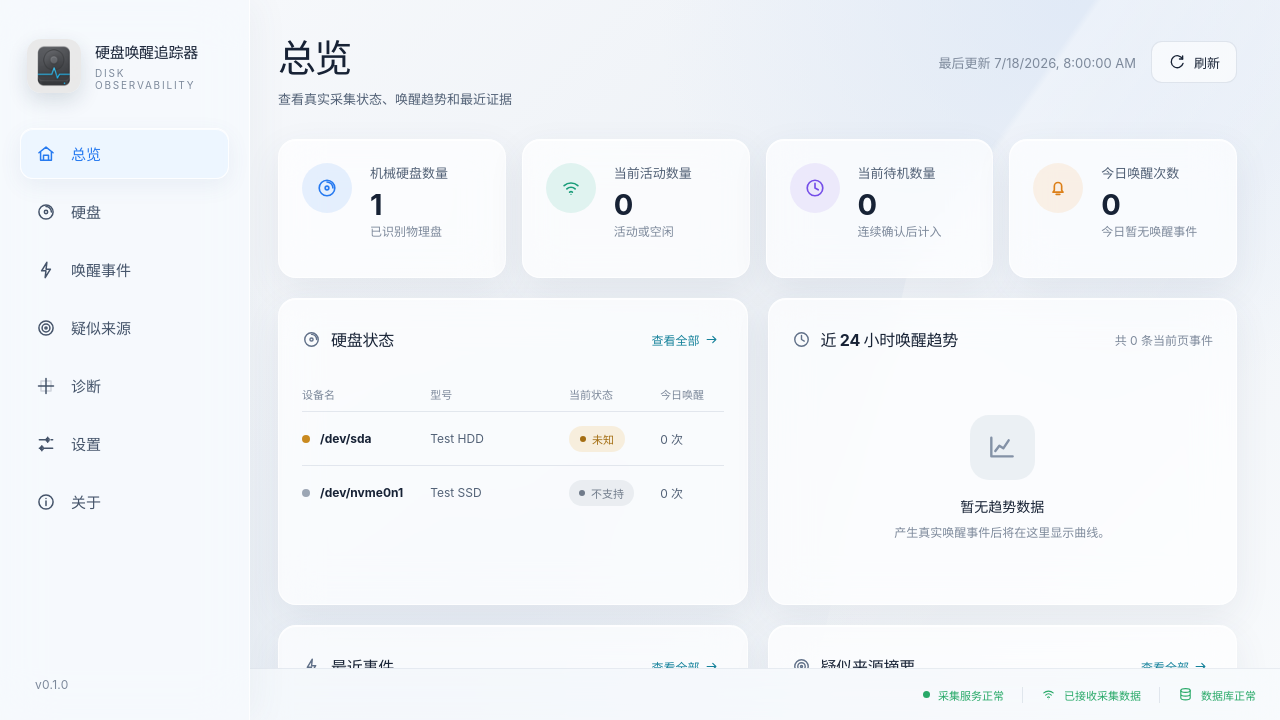
Test case: App › 设置保存成功后显示 Toast
Click the button "设置". click: (124, 444)
box: [20,418,229,469]
(page scrolled)
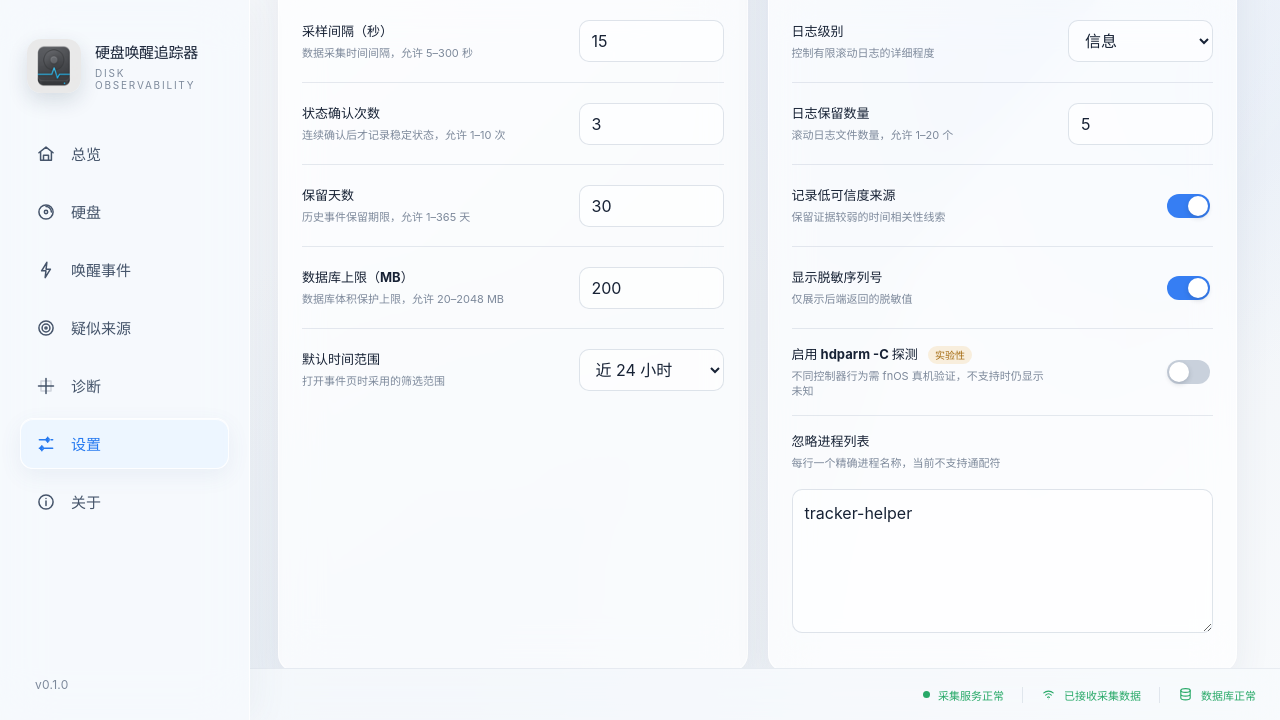
Submit the form with class "settings-form"
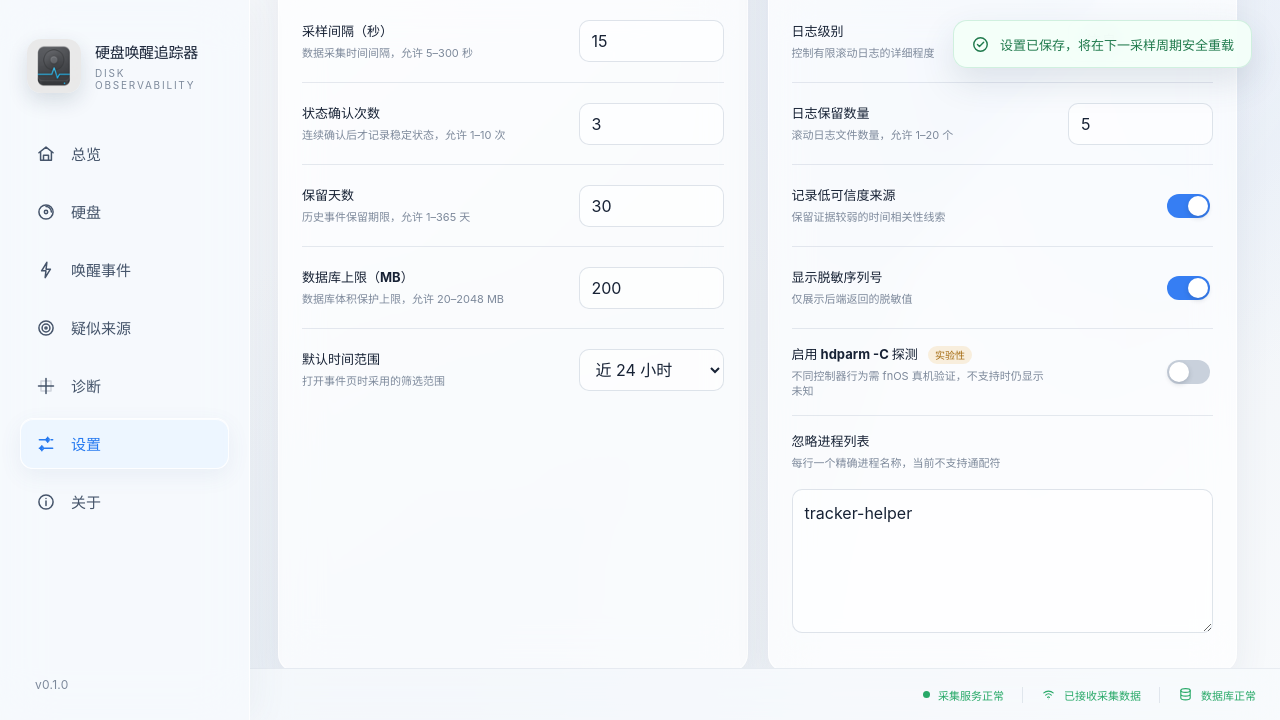
Check: the text "设置已保存" is shown, box [1000,36,1234,52]
